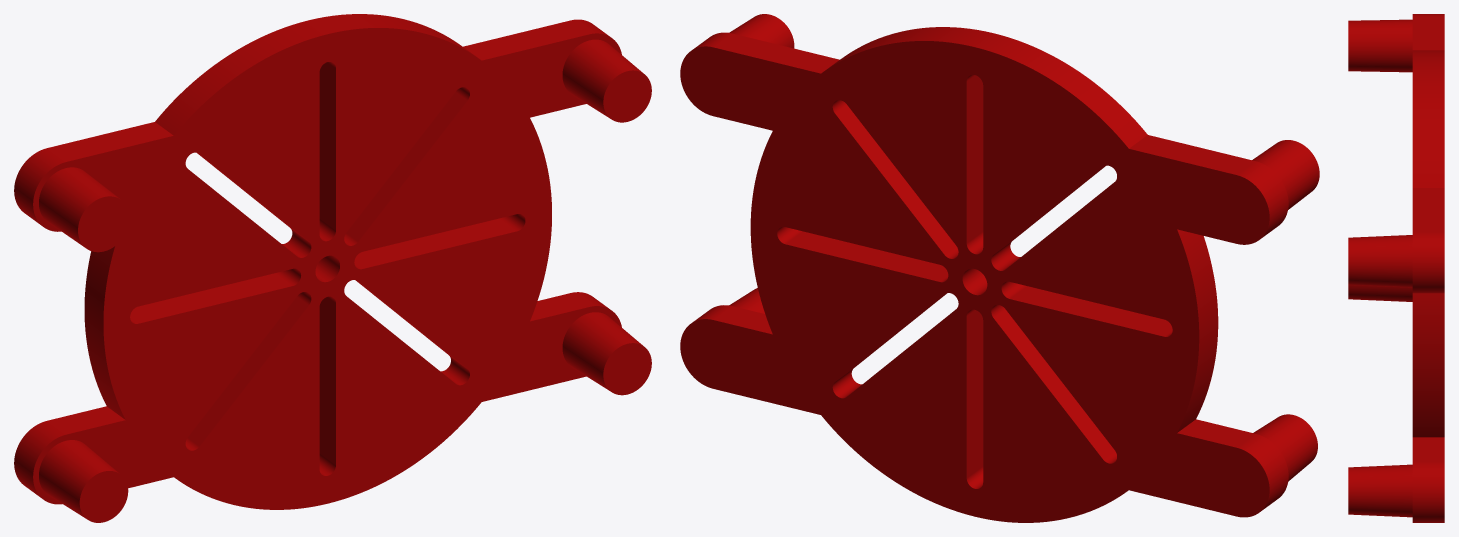
Rendered from Cube 1x1 V5_Laser Alignment Tool V2.obj.
The picture shows the model from 3 angles, left to right: view 1: azimuth 30°, elevation 25°; view 2: azimuth 150°, elevation 25°; view 3: azimuth 270°, elevation 25°; orthographic projection. The views are drawn at different scales.
Parts seen in each view (by area): view 1: Solid1:8; view 2: Solid1:8; view 3: Solid1:8.
Part boxes in pixels (left/top/right/bottom): Solid1:8: left=14, top=14, right=651, bottom=522; Solid1:8: left=680, top=14, right=1319, bottom=522; Solid1:8: left=1348, top=14, right=1444, bottom=522.
Bounding box in the file's own units: 44.8 × 34.1 × 7.5.
